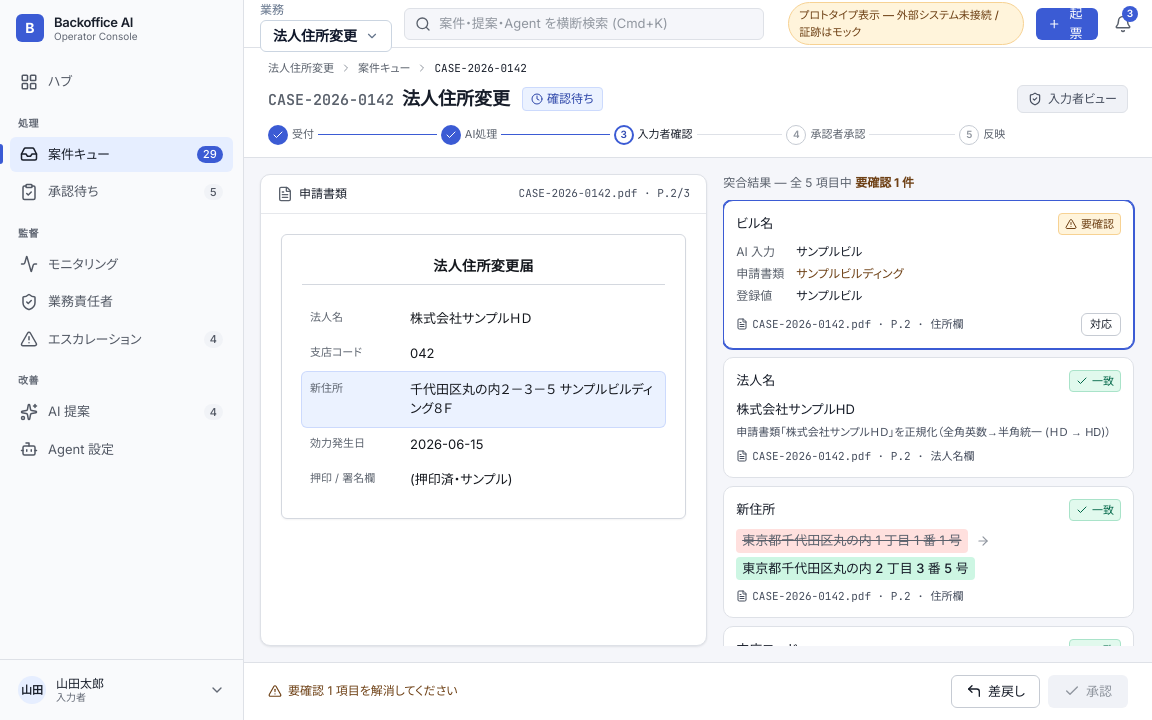
Scenario: P0-W3 sendback: 案件差戻し → 理由を read-only で再表示 › ready 案件を理由付きで差戻し → 差戻し理由が再表示される
Click the button "差戻し". click: (996, 691)
box: [951,674,1040,708]
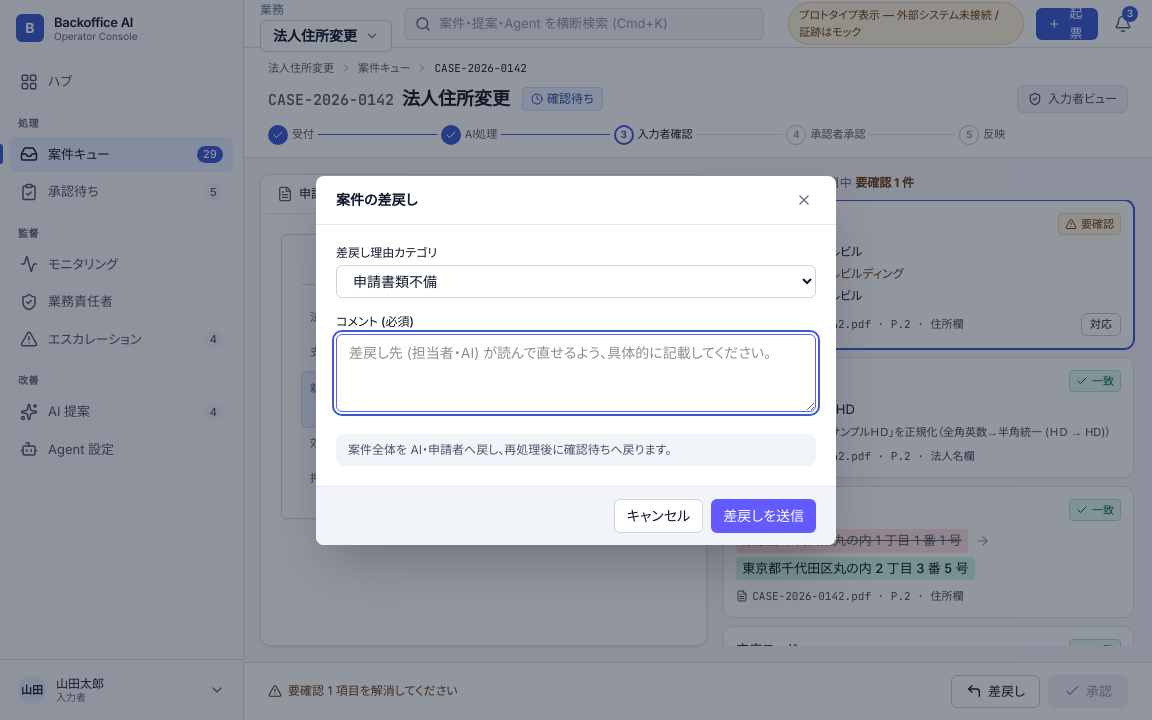
Type "ビル名を申請書類で再確認してください" into the text box labelled "コメント (必須)". click: (576, 372)
box: [336,334,816,412]
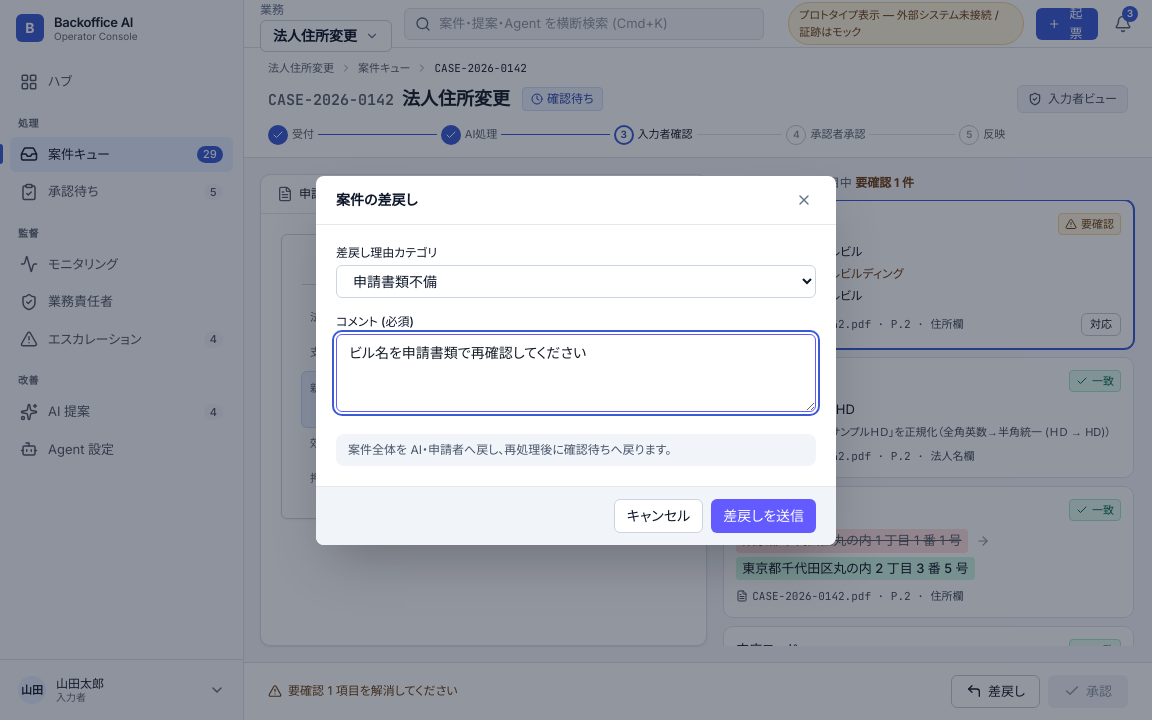
Click the button "差戻しを送信". click: (764, 516)
box: [711,498,816,532]
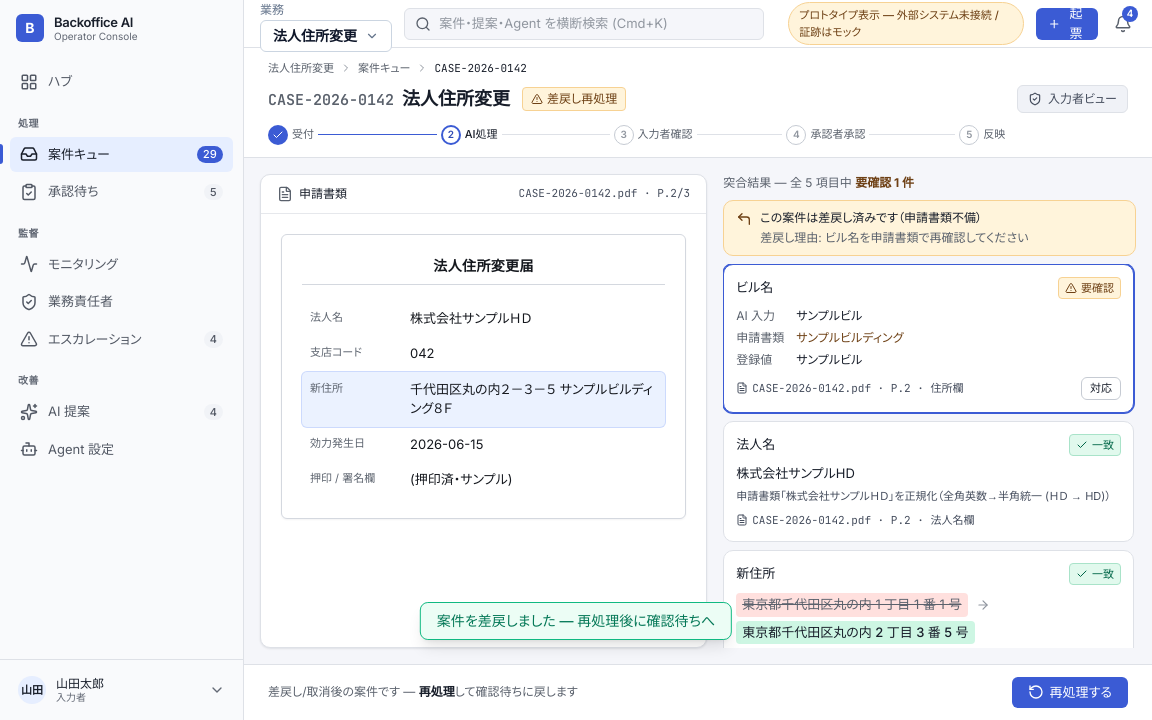
Result: the text "この案件は差戻し済みです（申請書類不備）" is shown at [760,210,982,224]
Result: the text "差戻し理由: ビル名を申請書類で再確認してください" is shown at [760,228,1028,246]
